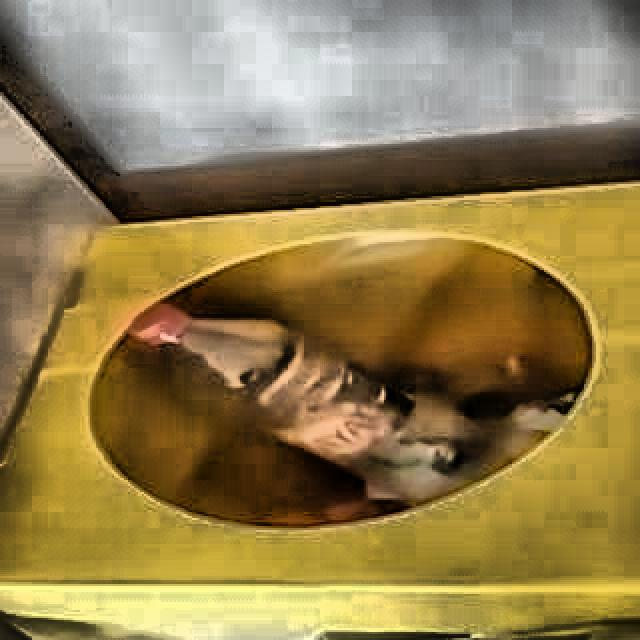plastic: (131, 306, 472, 506)
